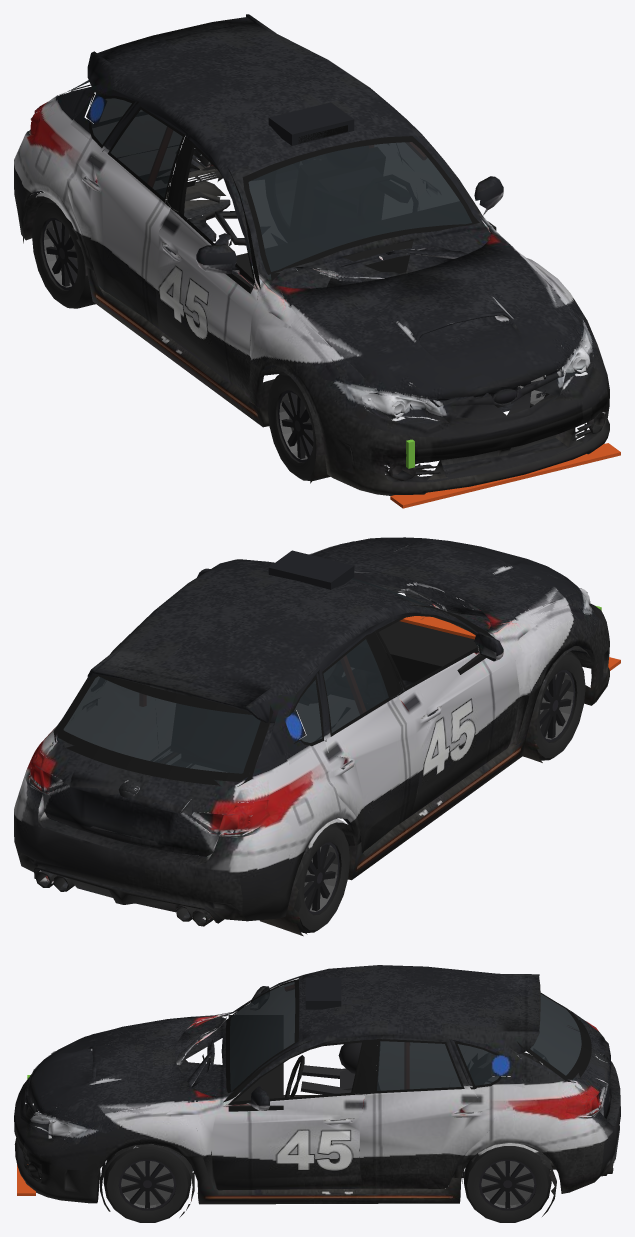
The picture shows the model from 3 angles, top to bottom: view 1: azimuth 30°, elevation 25°; view 2: azimuth 150°, elevation 25°; view 3: azimuth 270°, elevation 25°; orthographic projection. The views are drawn at different scales.
Visible parts, largest first — view 1: body, wheel_rr, wheel_fr; view 2: body, wheel_rr, wheel_fr; view 3: body, wheel_rl, wheel_fl.
Part boxes in pixels (x1,y1,x2,y2): body: [14, 14, 620, 508]; wheel_rr: [32, 198, 95, 308]; wheel_fr: [267, 371, 330, 480]; body: [14, 537, 620, 936]; wheel_rr: [298, 823, 349, 932]; wheel_fr: [523, 651, 585, 760]; body: [14, 965, 620, 1217]; wheel_rl: [464, 1144, 551, 1222]; wheel_fl: [103, 1146, 191, 1222].
Bounding box in the file's own units: 1.95 × 1.49 × 4.41.
2 materials, 1 textured.
